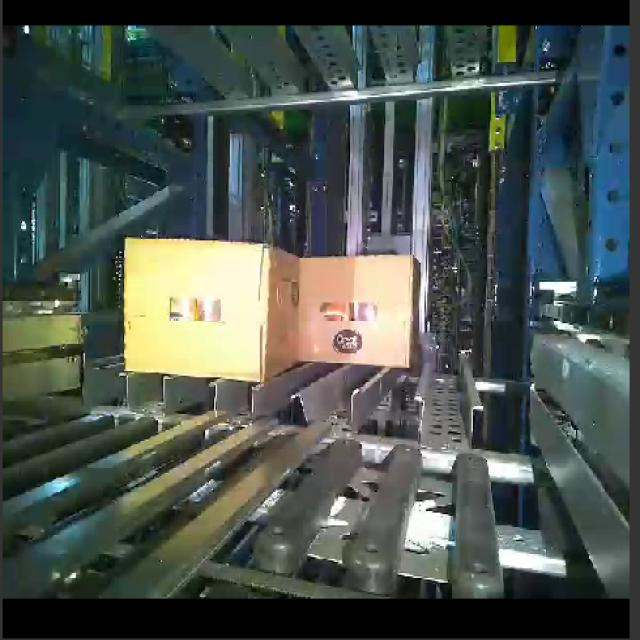box: (113, 232, 276, 383)
